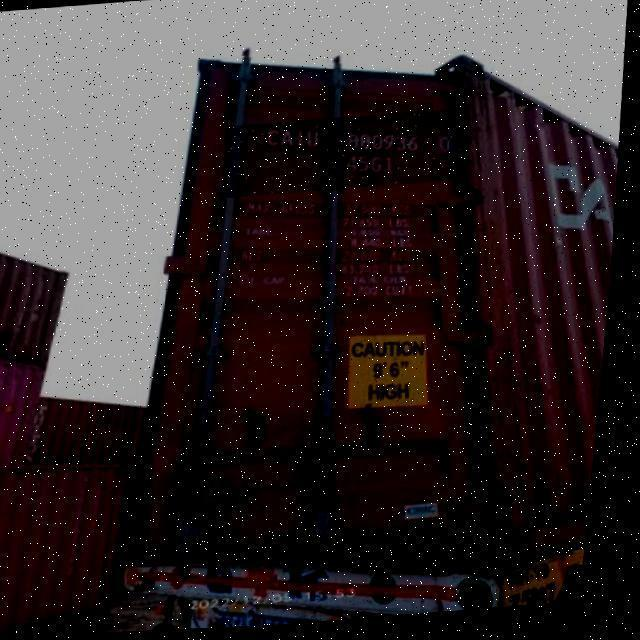container_number_h: (223, 112, 467, 200)
